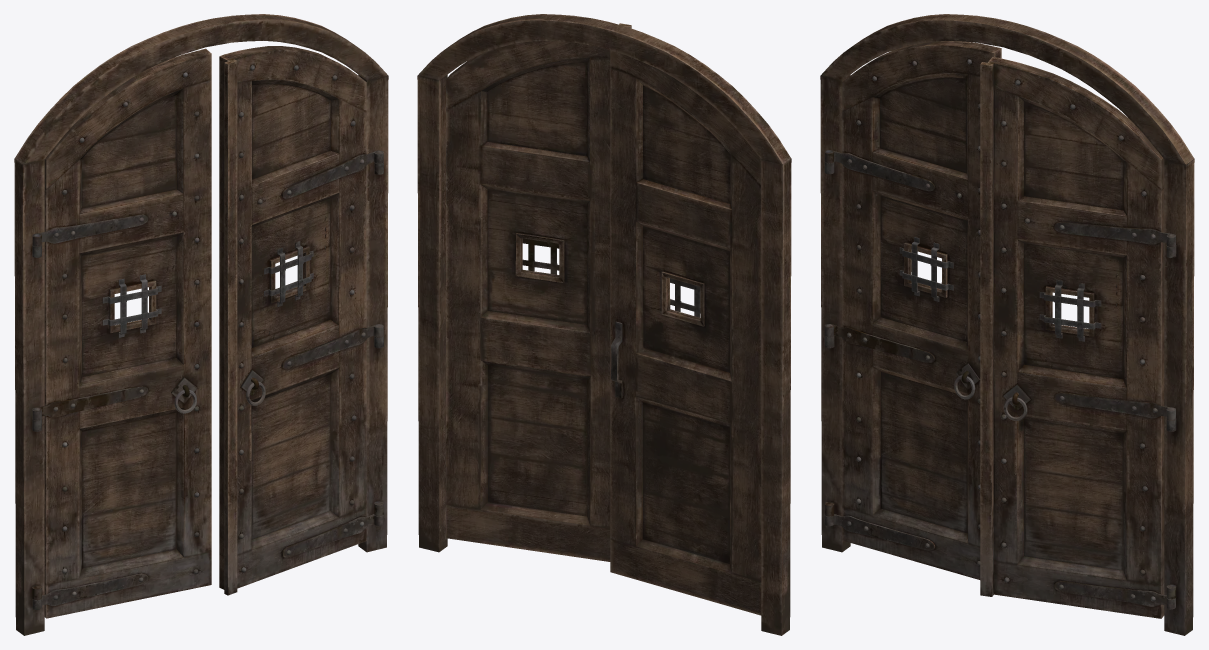
The model's file is large_castle_door.glb.
The picture shows the model from 3 angles, left to right: view 1: azimuth 30°, elevation 25°; view 2: azimuth 150°, elevation 25°; view 3: azimuth 330°, elevation 25°; orthographic projection.
Visible parts, largest first — view 1: large_castle_door_left, large_castle_door_right, large_castle_door_frame; view 2: large_castle_door_right, large_castle_door_left, large_castle_door_frame; view 3: large_castle_door_right, large_castle_door_left, large_castle_door_frame.
Boxes of the visible parts, x1,y1,x2,y2 form: large_castle_door_left: (32, 48, 211, 618); large_castle_door_right: (219, 46, 383, 595); large_castle_door_frame: (14, 14, 388, 635); large_castle_door_right: (446, 23, 631, 561); large_castle_door_left: (610, 50, 761, 615); large_castle_door_frame: (417, 14, 791, 635); large_castle_door_right: (980, 57, 1175, 618); large_castle_door_left: (824, 41, 1001, 579); large_castle_door_frame: (820, 14, 1194, 635).
Size of the model in its own units: 2.01 by 2.96 by 0.2963.
1 material, 1 textured.
